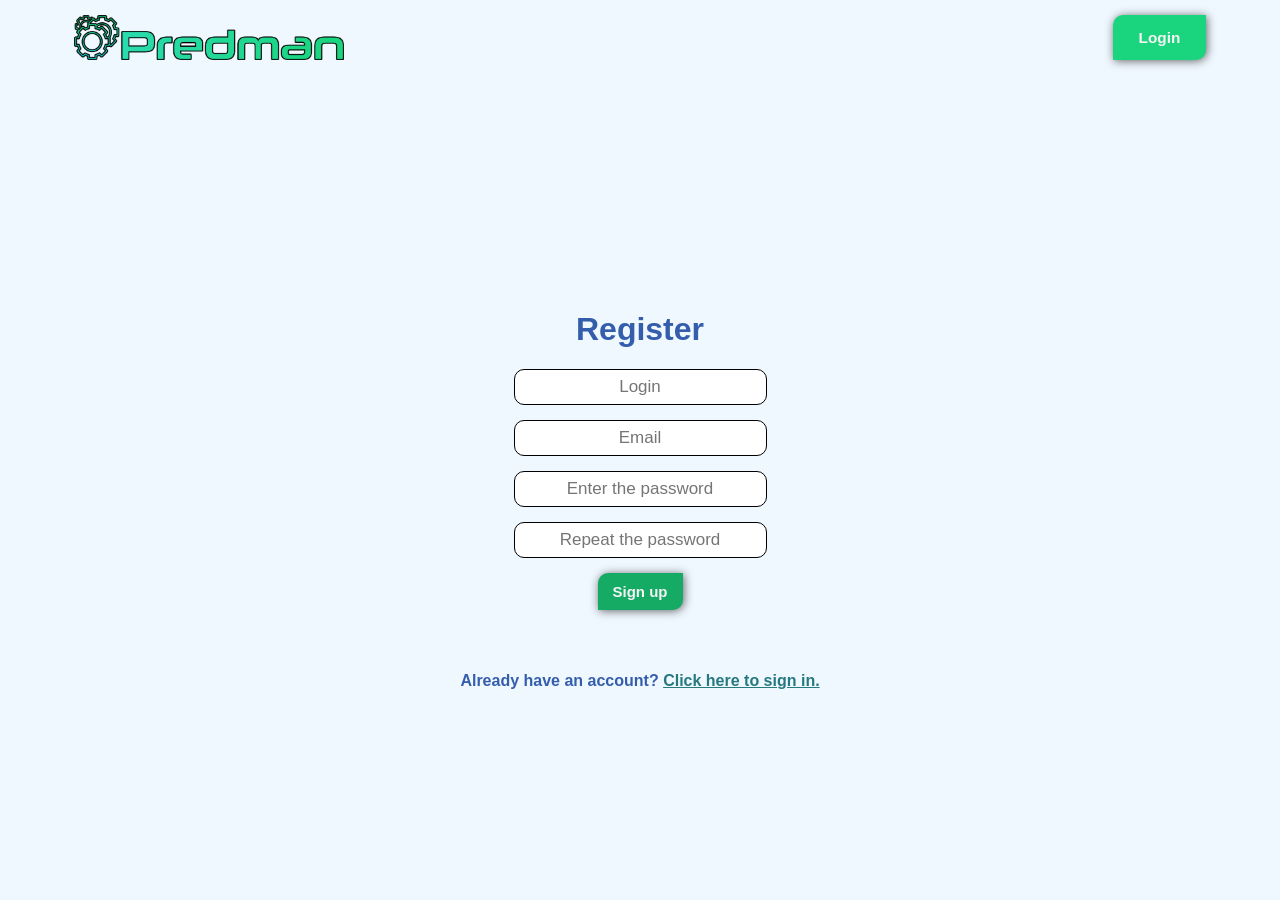
Scenario: Register component › shows required error messages on submit without input
The image size is (1280, 900).
Click the button "Sign up" at (640, 592), box [598,573,682,610]
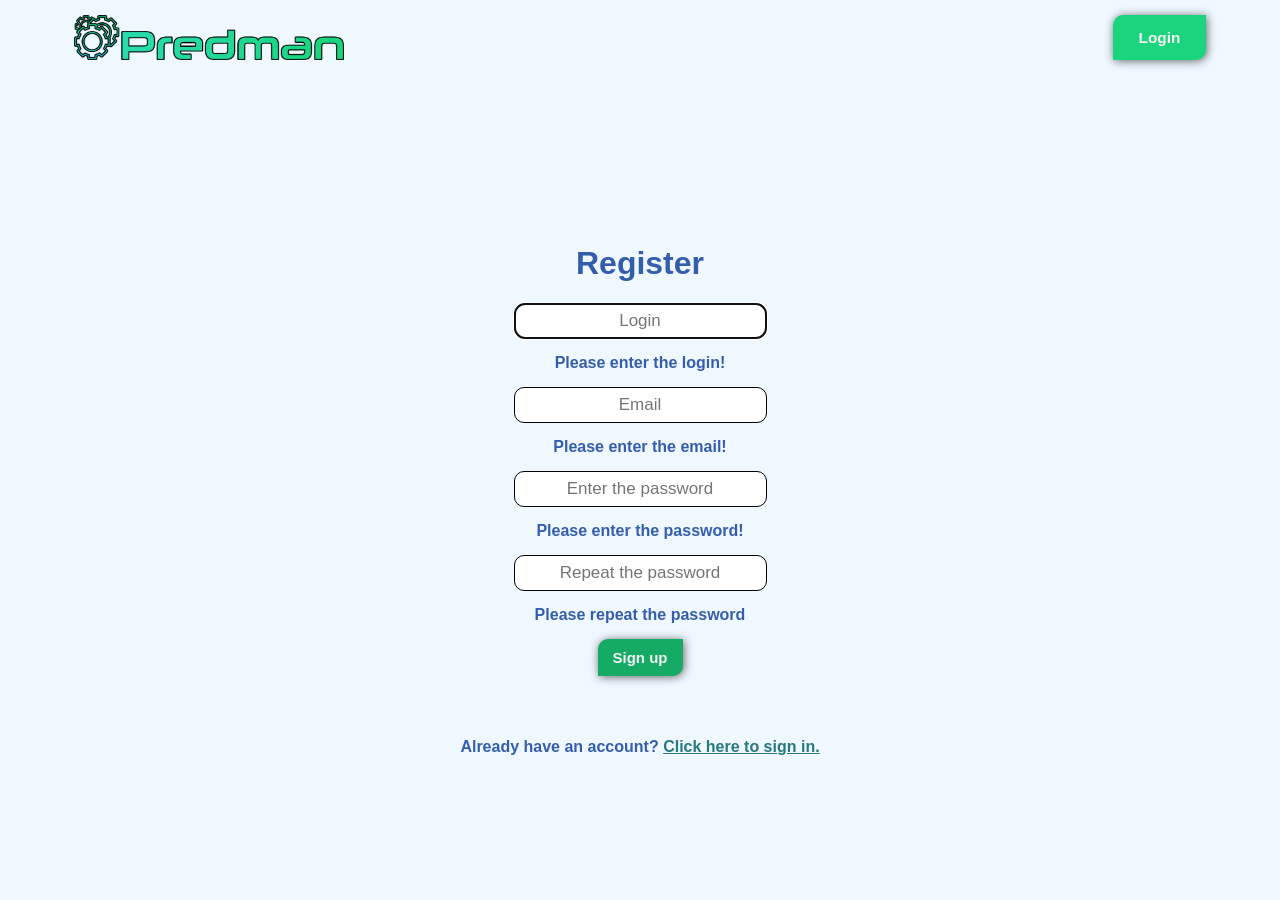
Result: the text "Please enter the login!" is shown at [555,354,725,372]
Result: the text "Please enter the email!" is shown at [553,438,727,456]
Result: the text "Please enter the password!" is shown at [536,522,744,540]
